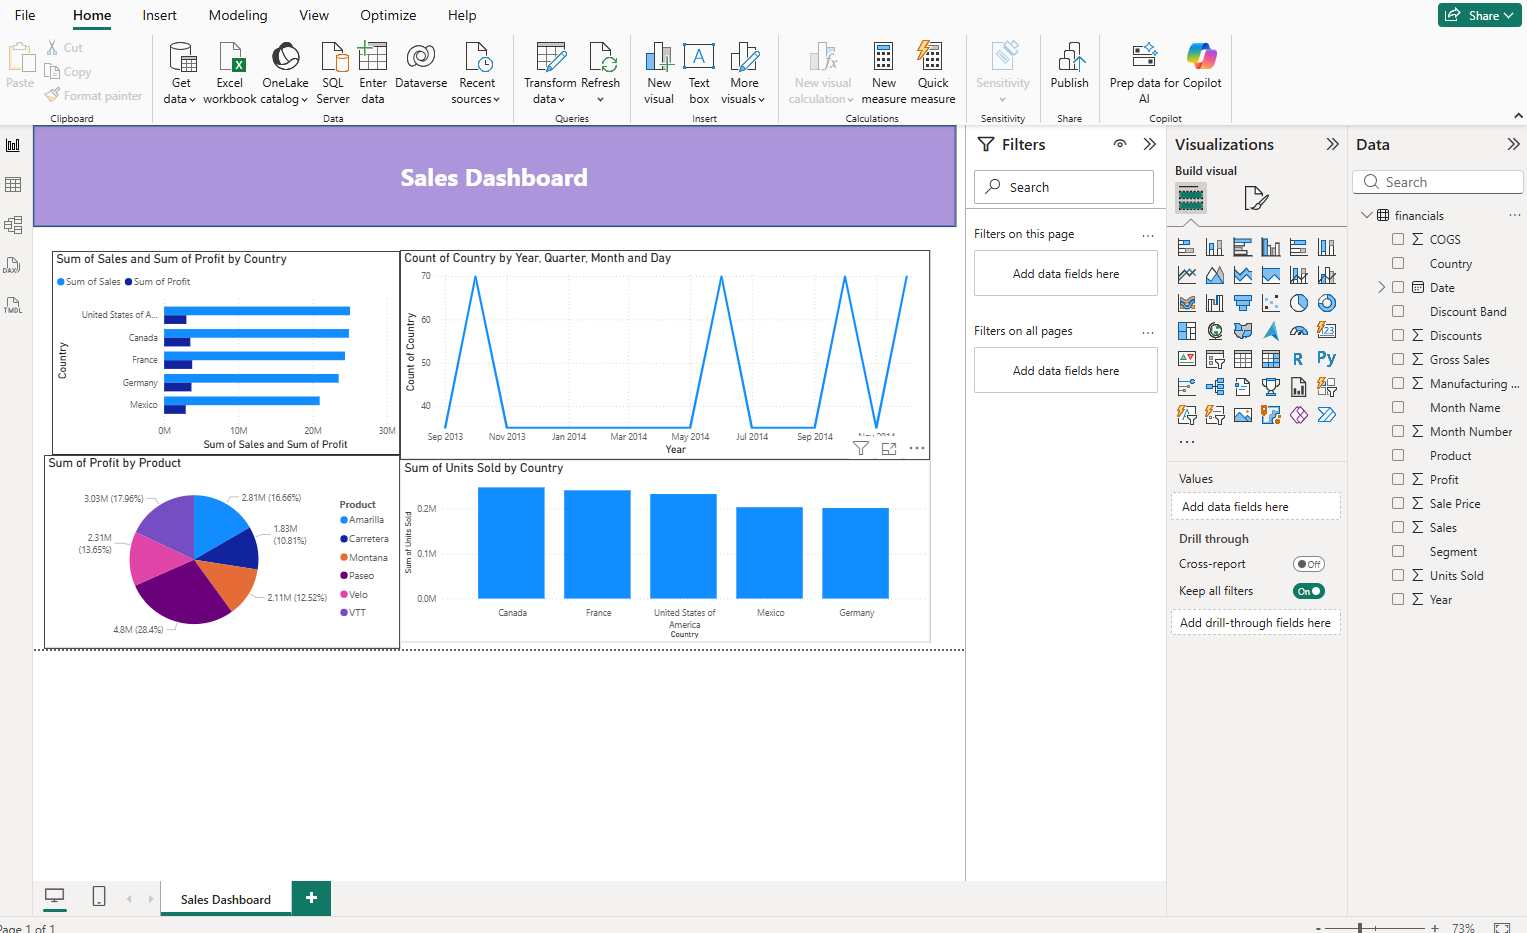

This screenshot's page, from the dashboard's own definition file:
{"tool":"powerbi","page":{"name":"Sales Dashboard","canvas":[1280,720],"ordinal":0},"visuals":[{"type":"clusteredBarChart","fields":{"Category":["financials.Country"],"Y":["Sum(financials.Sales)","Sum(financials.Profit)"]},"box":[26.1,173,477.9,280.2],"z":0},{"type":"pieChart","fields":{"Y":["Sum(financials.Profit)"],"Series":["financials.Product"]},"box":[15.1,453.2,488.9,266.4],"z":1},{"type":"lineChart","fields":{"Y":["CountNonNull(financials.Country)"],"Category":["financials.Date.Variation.Date Hierarchy.Year","financials.Date.Variation.Date Hierarchy.Quarter","financials.Date.Variation.Date Hierarchy.Month","financials.Date.Variation.Date Hierarchy.Day"]},"box":[504,171.7,727.9,288.4],"z":2},{"type":"clusteredColumnChart","fields":{"Category":["financials.Country"],"Y":["Sum(financials.Units Sold)"]},"box":[504,460.1,727.9,251.3],"z":3},{"type":"shape","box":[0,0,1267.6,140.1],"z":4}]}

Visuals, with their boxes on the page's 1280x720 design canvas (x1, y1, x2, y2). These are canvas units, not pixel positions in the 1527x933 screenshot, which may show the page scaled, cropped or inside an application window:
clusteredBarChart - financials.Country x Sum(financials.Sales): [26, 173, 504, 453]
pieChart - Sum(financials.Profit) x financials.Product: [15, 453, 504, 720]
lineChart - CountNonNull(financials.Country) x financials.Date.Variation.Date Hierarchy.Year: [504, 172, 1232, 460]
clusteredColumnChart - financials.Country x Sum(financials.Units Sold): [504, 460, 1232, 711]
shape: [0, 0, 1268, 140]
